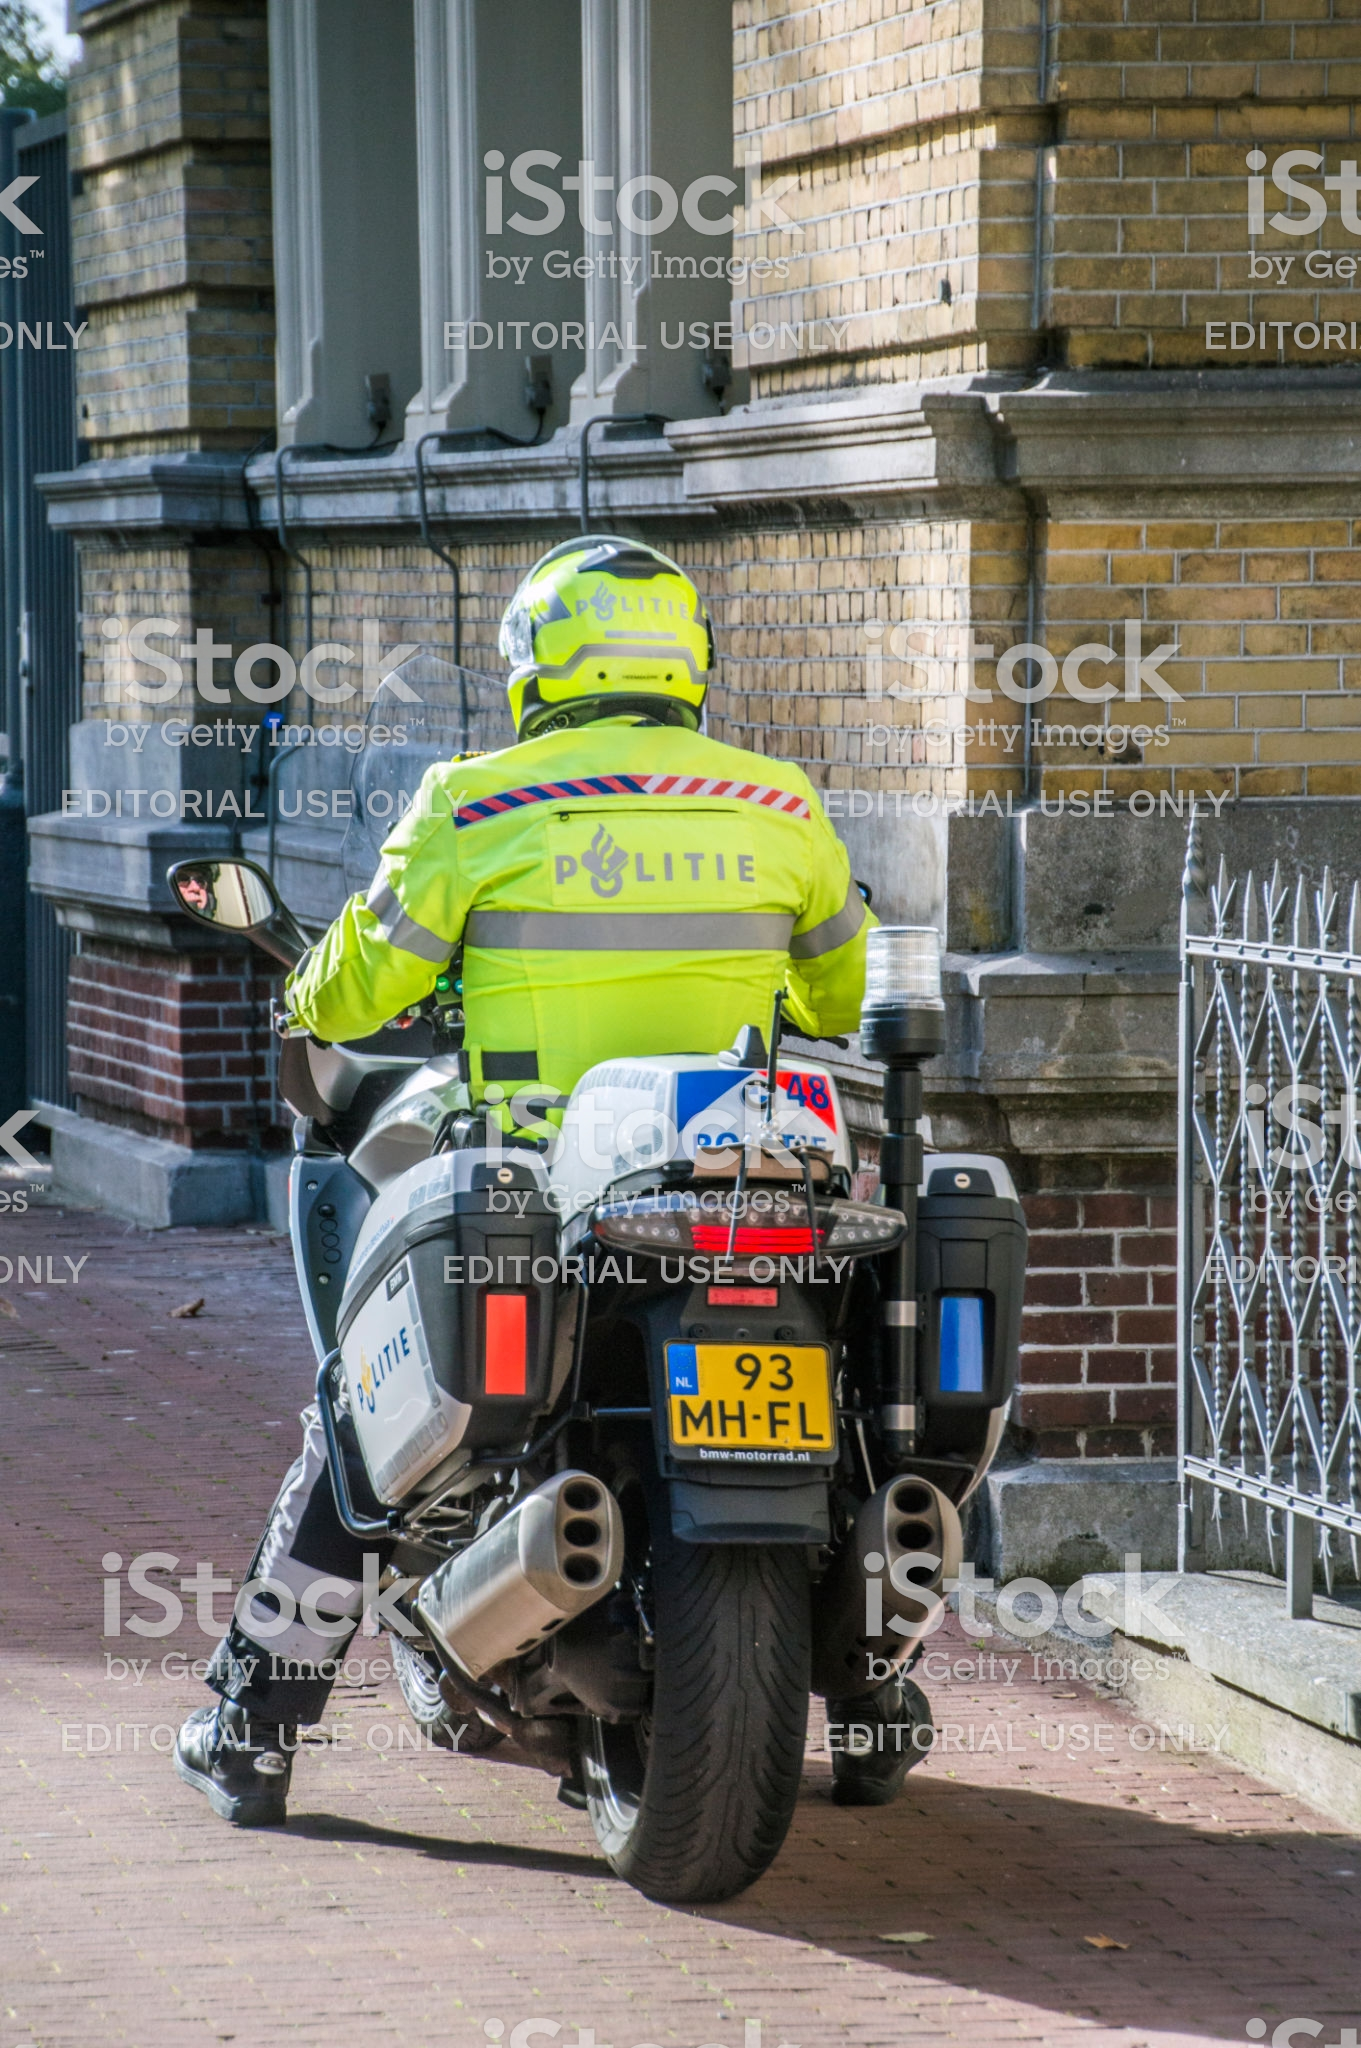helmet: (459, 522, 740, 764)
